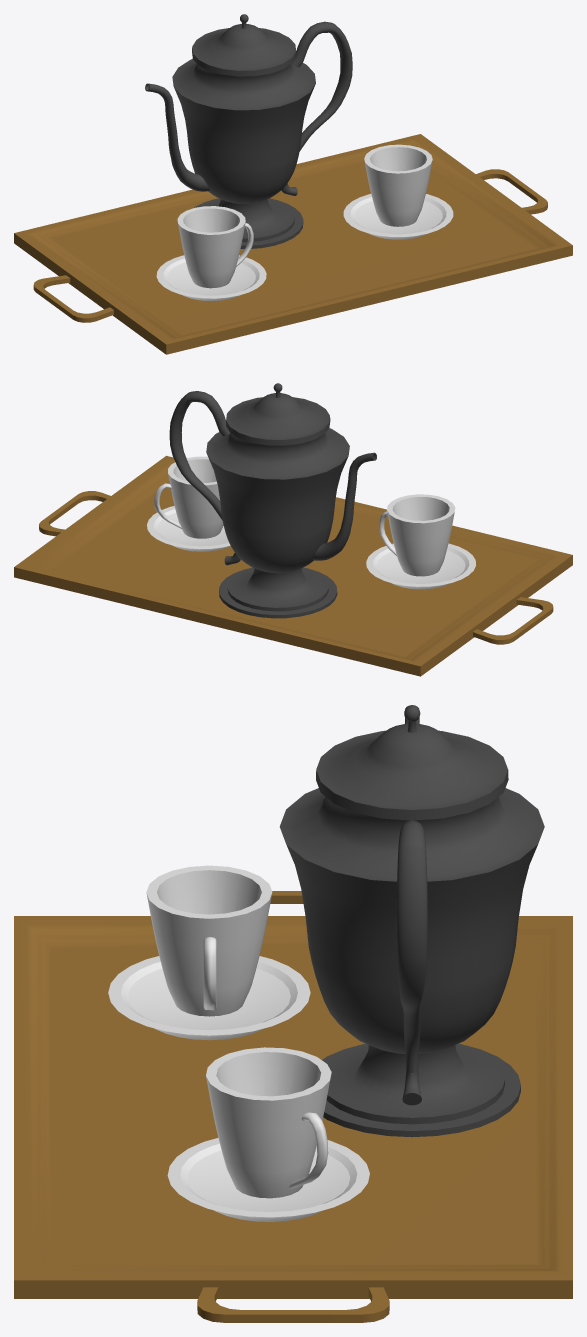
File: TeaSet.fbx
The picture shows the model from 3 angles, top to bottom: view 1: azimuth 30°, elevation 25°; view 2: azimuth 150°, elevation 25°; view 3: azimuth 270°, elevation 25°; orthographic projection. The views are drawn at different scales.
Visible parts, largest first — view 1: Tray, TeaPot, CupSet, CupSet1; view 2: Tray, TeaPot, CupSet, CupSet1; view 3: Tray, TeaPot, CupSet1, CupSet.
Boxes of the visible parts, left/top/right/bottom form: Tray: left=14, top=134, right=572, bottom=354; TeaPot: left=145, top=14, right=352, bottom=248; CupSet: left=156, top=206, right=266, bottom=300; CupSet1: left=343, top=144, right=453, bottom=239; Tray: left=14, top=455, right=572, bottom=676; TeaPot: left=169, top=383, right=376, bottom=618; CupSet: left=366, top=494, right=475, bottom=589; CupSet1: left=147, top=456, right=230, bottom=551; Tray: left=14, top=891, right=572, bottom=1322; TeaPot: left=279, top=705, right=544, bottom=1137; CupSet1: left=167, top=1047, right=369, bottom=1221; CupSet: left=108, top=865, right=310, bottom=1040.
Bounding box in the file's own units: 41.07 × 17.87 × 22.9.
